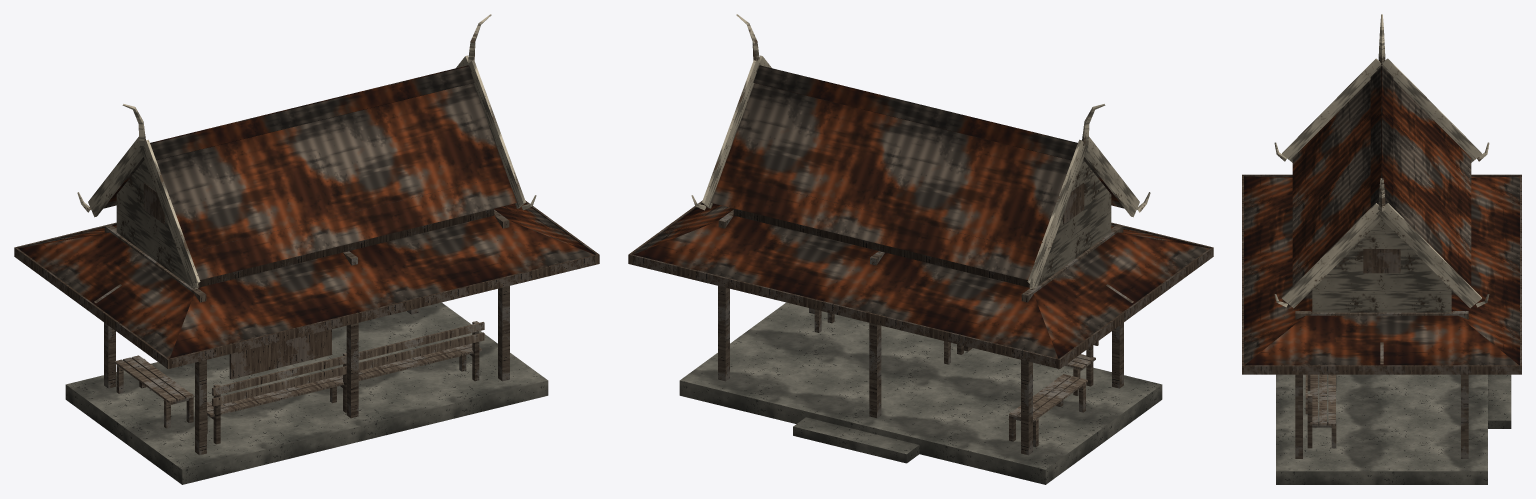
The model's file is sala.glb.
3 renders of one model, left to right at view 1: azimuth 30°, elevation 25°; view 2: azimuth 150°, elevation 25°; view 3: azimuth 270°, elevation 25°, orthographic. The views are drawn at different scales.
Visible parts, largest first — view 1: Sala_rust, Sala_conc, Sala_wood, Sala_dark, Sala_white; view 2: Sala_rust, Sala_conc, Sala_dark, Sala_white, Sala_wood; view 3: Sala_rust, Sala_conc, Sala_white, Sala_dark, Sala_wood.
Boxes of the visible parts, x1,y1,x2,y2 form: Sala_rust: (18,65,594,358); Sala_conc: (65,302,548,484); Sala_wood: (94,210,509,455); Sala_dark: (14,178,599,379); Sala_white: (77,14,536,289); Sala_rust: (633,65,1209,358); Sala_conc: (679,302,1162,484); Sala_dark: (628,178,1213,368); Sala_white: (691,14,1150,289); Sala_wood: (718,210,1133,455); Sala_rust: (1244,66,1519,365); Sala_conc: (1276,374,1511,484); Sala_white: (1274,14,1489,312); Sala_dark: (1242,174,1521,374); Sala_wood: (1295,311,1468,458).
Bounding box in the file's own units: 6.84 × 5.13 × 4.22.
6 materials, 5 textured.
